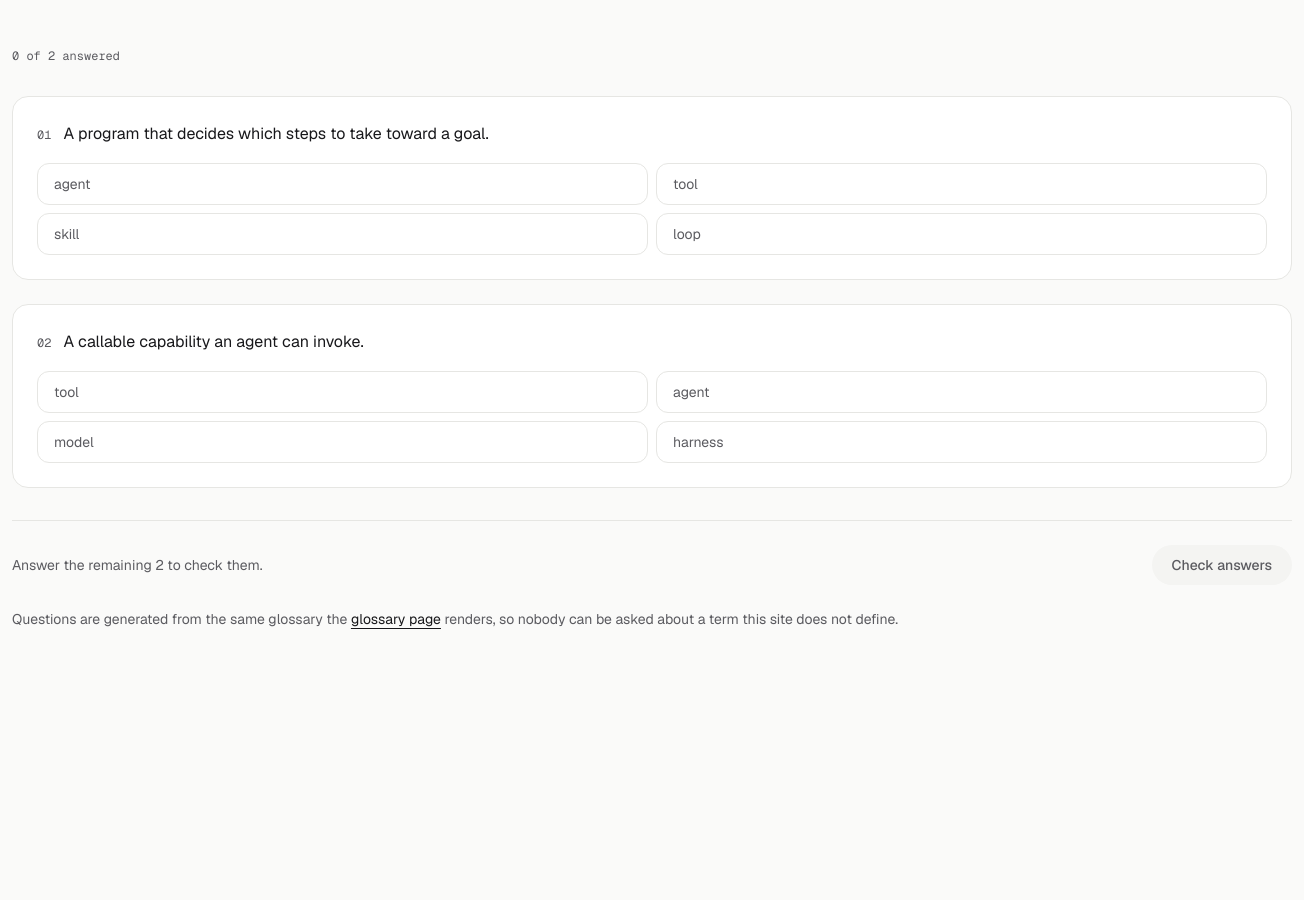
Test: GlossaryQuiz › lets the reader retry the same paper
Click the button "agent" below "01" at (72, 184), box [37,163,648,205]
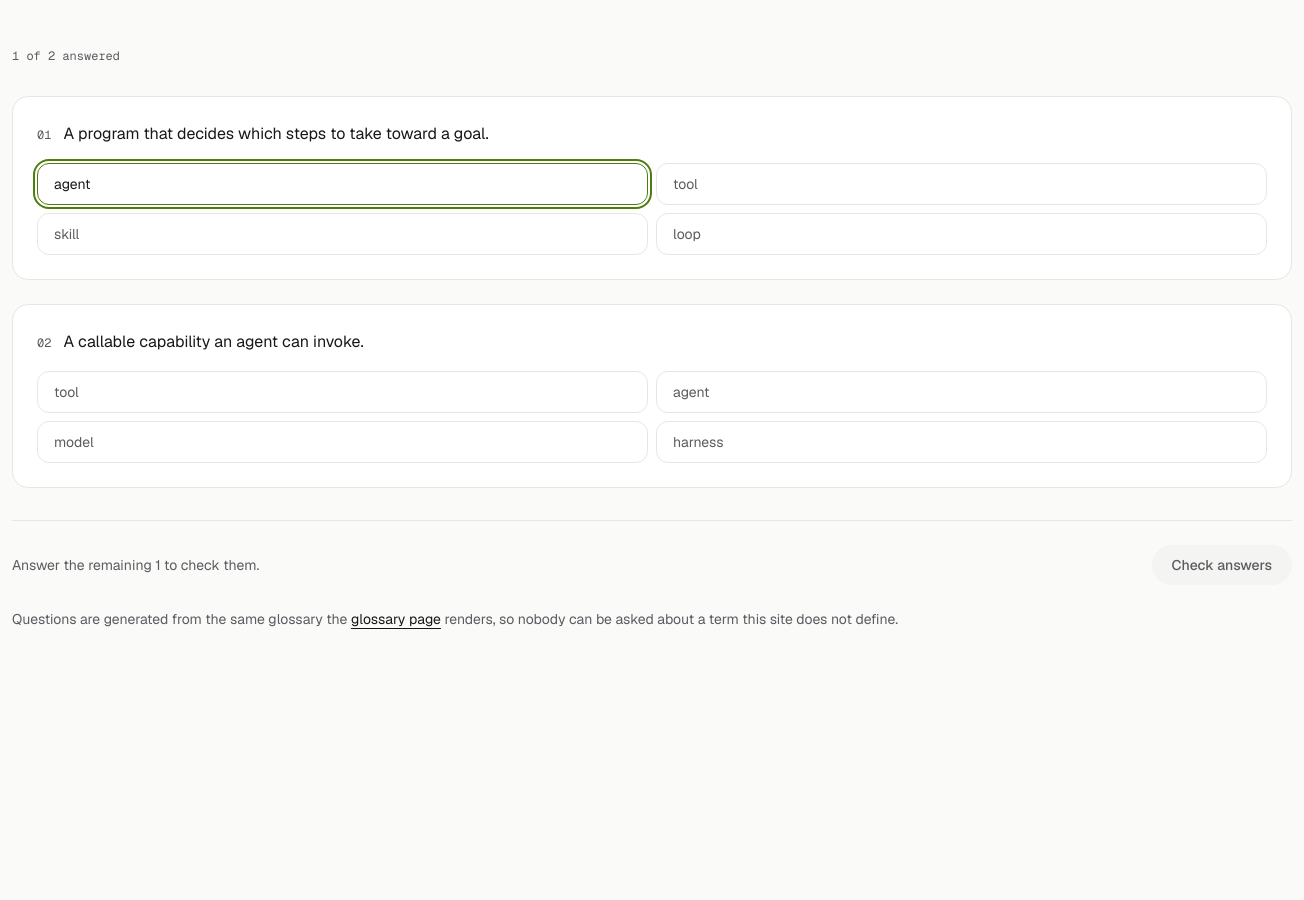
Click the button "tool" below "02" at (66, 392), box [37,371,648,413]
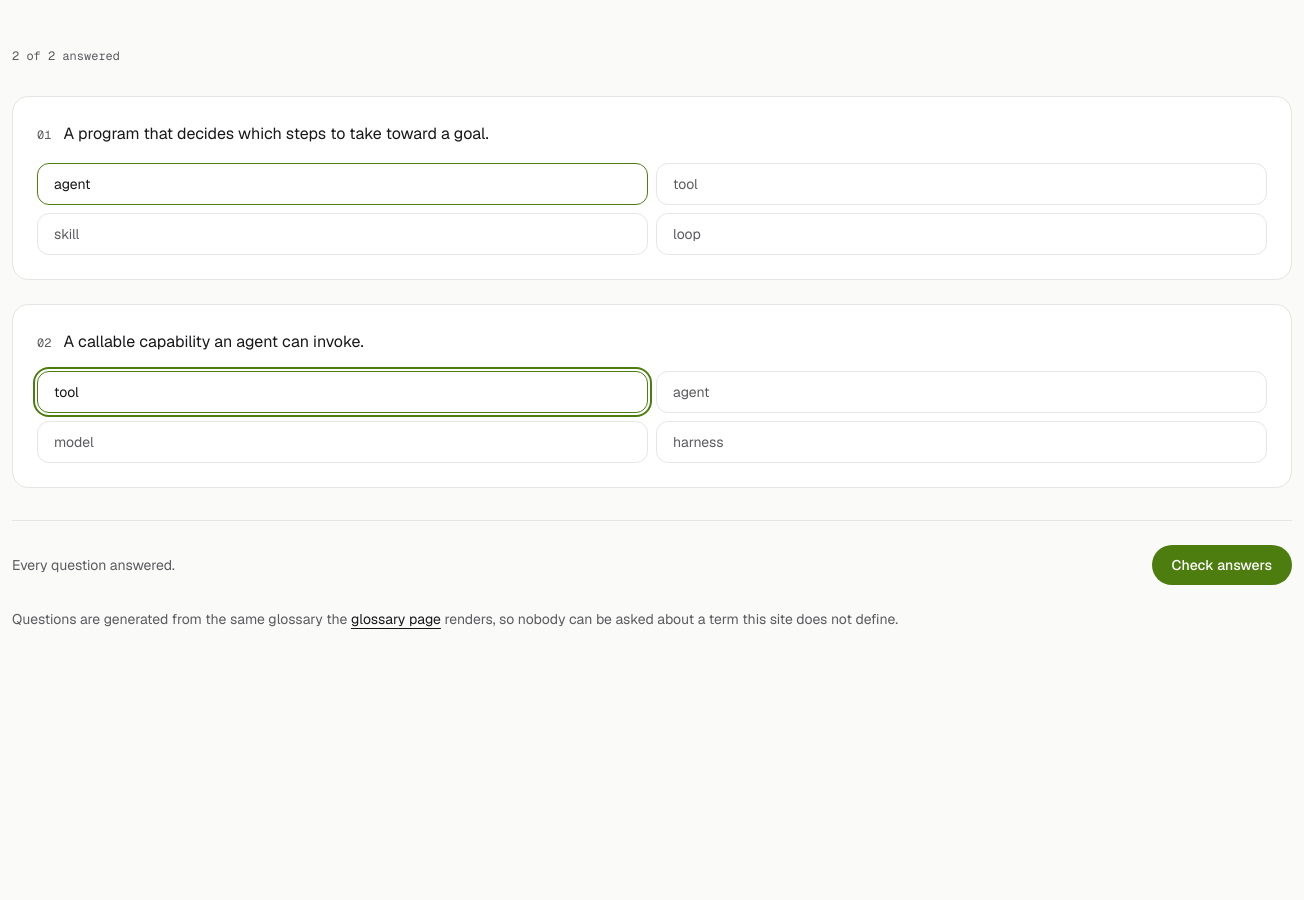
Click the button "Check answers" at (1222, 565), box [1152,545,1292,585]
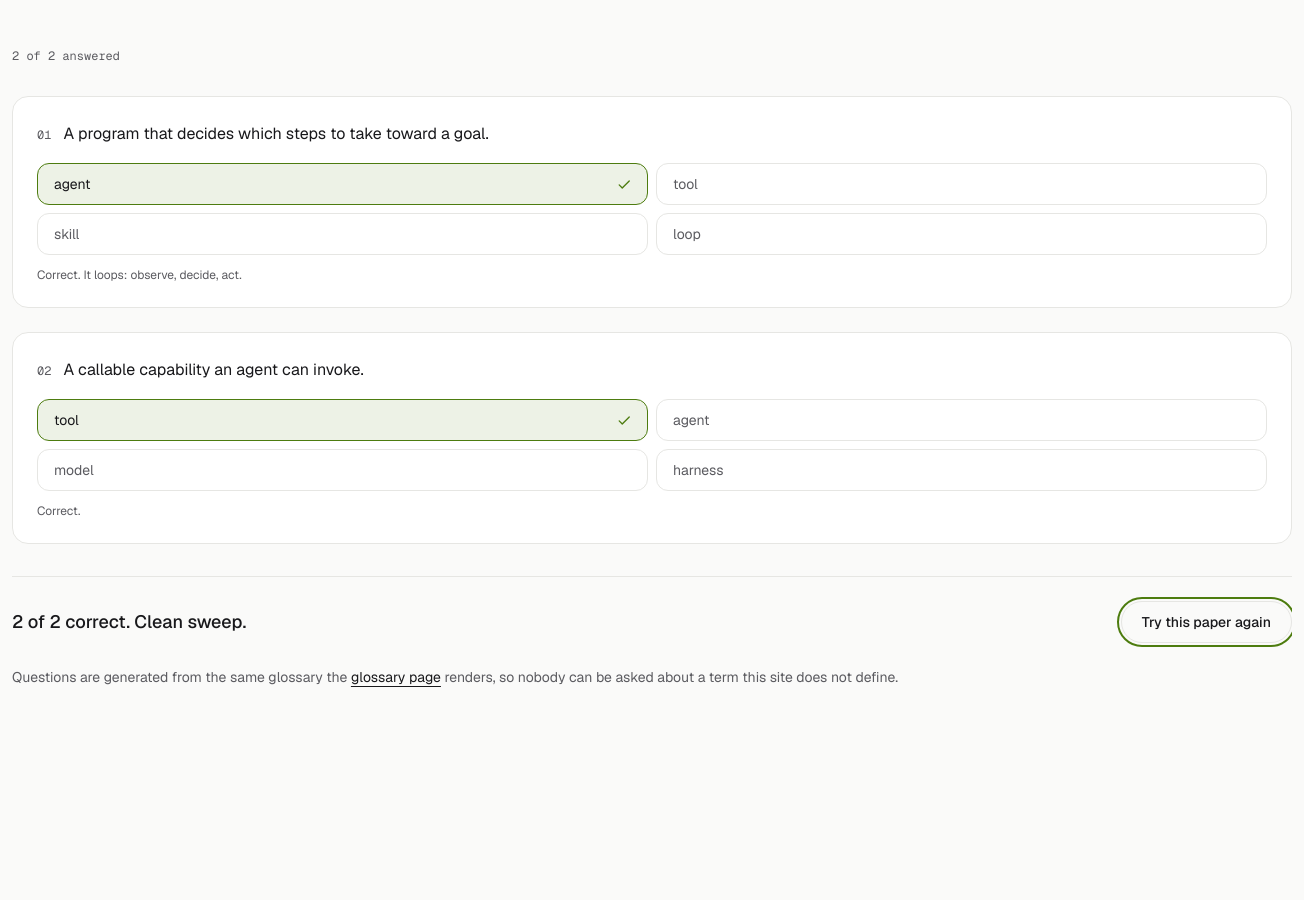
Click the button "Try this paper again" at (1206, 622), box [1121,601,1292,643]
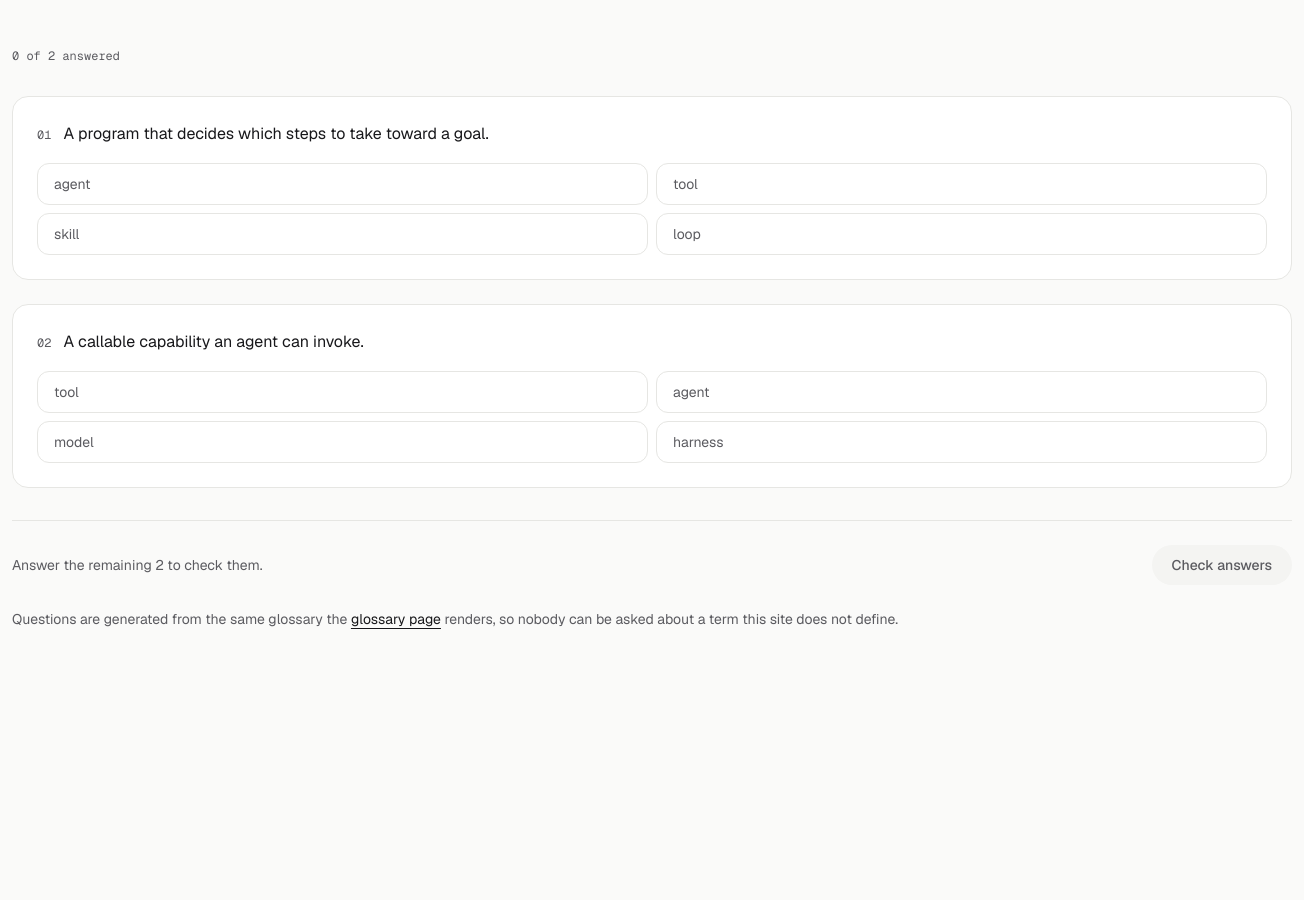
Expected: the text "Answer the remaining 2 to check them." is shown, [12,555,263,575]
Expected: the button "agent" below "01" is enabled, [37,163,648,205]
